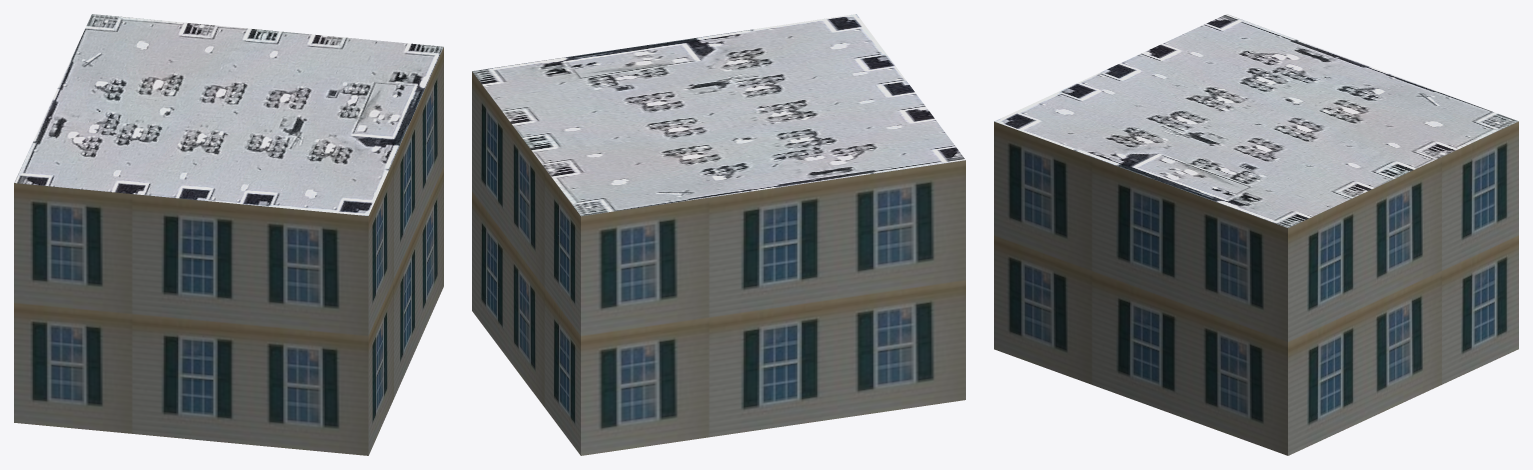
File: ResTex__1667.fbx
The picture shows the model from 3 angles, left to right: view 1: azimuth 30°, elevation 25°; view 2: azimuth 150°, elevation 25°; view 3: azimuth 270°, elevation 25°; orthographic projection. The views are drawn at different scales.
Visible parts, largest first — view 1: CityEngineMaterial_7_m, CityEngineMaterial_8_m; view 2: CityEngineMaterial_7_m, CityEngineMaterial_8_m; view 3: CityEngineMaterial_7_m, CityEngineMaterial_8_m.
Boxes of the visible parts, left/top/right/bottom form: CityEngineMaterial_7_m: left=14, top=47, right=443, bottom=455; CityEngineMaterial_8_m: left=14, top=14, right=443, bottom=215; CityEngineMaterial_7_m: left=472, top=71, right=965, bottom=455; CityEngineMaterial_8_m: left=472, top=14, right=965, bottom=216; CityEngineMaterial_7_m: left=994, top=121, right=1518, bottom=455; CityEngineMaterial_8_m: left=994, top=14, right=1518, bottom=227.
Size of the model in its own units: 12.1 by 6 by 12.53.
Materials: 2 (2 with a texture image).
